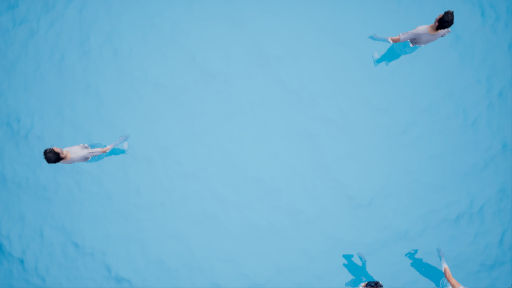person: (356, 3, 459, 70), (29, 130, 138, 171), (406, 235, 474, 288), (337, 245, 386, 288)
